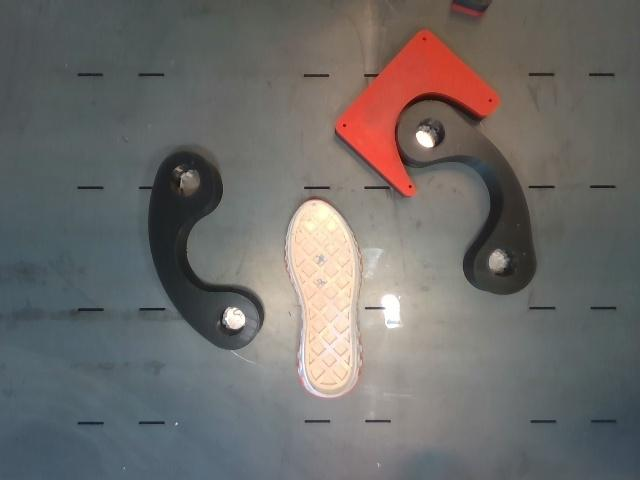shoes: (288, 200, 358, 396)
